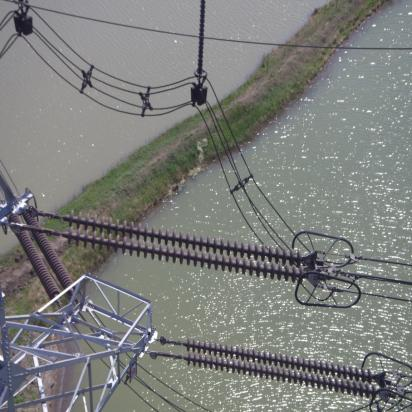insulator: (51, 210, 312, 285), (175, 337, 382, 400)
